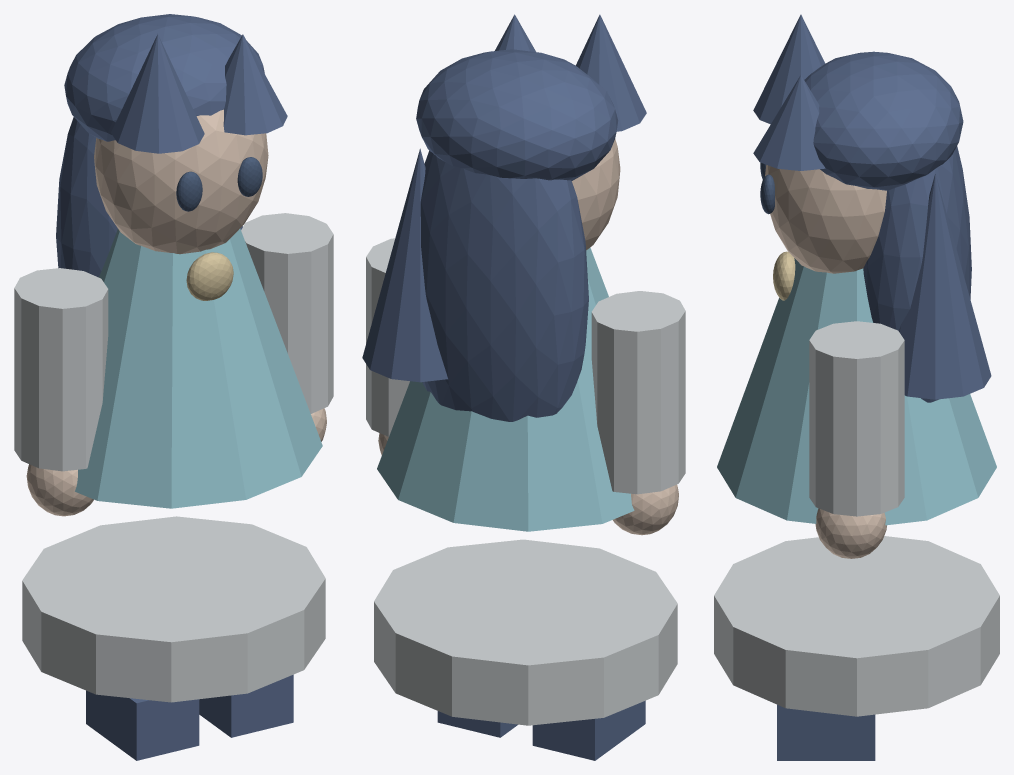
Rendered from saruul.glb.
3 renders of one model, left to right at view 1: azimuth 30°, elevation 25°; view 2: azimuth 150°, elevation 25°; view 3: azimuth 270°, elevation 25°, orthographic. The views are drawn at different scales.
Parts seen in each view (by area): view 1: underskirt, dress, sleeve0, face, hair_cap, sleeve1, hair_back, bang_left, shoe0, bang_right, shoe1, hand0 (+3 smaller); view 2: underskirt, hair_back, dress, hair_cap, sleeve0, hair_tail, shoe0, sleeve1, bang_left, face, hand0, shoe1 (+1 smaller); view 3: underskirt, dress, sleeve1, hair_cap, hair_tail, face, hair_back, shoe1, bang_right, bang_left, hand1, necklace (+1 smaller).
Part boxes in pixels (x1=…): underskirt: x1=22, y1=516, x2=325, y2=702; dress: x1=75, y1=228, x2=322, y2=508; sleeve0: x1=14, y1=268, x2=108, y2=471; face: x1=94, y1=109, x2=268, y2=254; hair_cap: x1=64, y1=14, x2=264, y2=141; sleeve1: x1=241, y1=213, x2=333, y2=413; hair_back: x1=56, y1=117, x2=117, y2=277; bang_left: x1=111, y1=34, x2=204, y2=153; shoe0: x1=86, y1=690, x2=199, y2=760; bang_right: x1=223, y1=34, x2=287, y2=135; shoe1: x1=199, y1=674, x2=293, y2=737; hand0: x1=26, y1=464, x2=93, y2=516; underskirt: x1=374, y1=539, x2=677, y2=725; hair_back: x1=420, y1=150, x2=588, y2=421; dress: x1=377, y1=247, x2=634, y2=531; hair_cap: x1=416, y1=49, x2=618, y2=180; sleeve0: x1=591, y1=291, x2=685, y2=494; hair_tail: x1=362, y1=148, x2=447, y2=382; shoe0: x1=532, y1=700, x2=645, y2=760; sleeve1: x1=366, y1=238, x2=409, y2=436; bang_left: x1=576, y1=14, x2=646, y2=131; face: x1=572, y1=139, x2=620, y2=250; hand0: x1=613, y1=484, x2=678, y2=535; shoe1: x1=437, y1=711, x2=517, y2=737; underskirt: x1=714, y1=536, x2=999, y2=716; dress: x1=717, y1=258, x2=996, y2=525; sleeve1: x1=809, y1=321, x2=904, y2=516; hair_cap: x1=804, y1=51, x2=963, y2=190; hair_tail: x1=899, y1=173, x2=991, y2=399; face: x1=765, y1=165, x2=886, y2=273; hair_back: x1=863, y1=146, x2=971, y2=402; shoe1: x1=777, y1=704, x2=875, y2=760; bang_right: x1=753, y1=75, x2=825, y2=170; bang_left: x1=753, y1=14, x2=825, y2=124; hand1: x1=815, y1=508, x2=886, y2=558; necklace: x1=773, y1=251, x2=795, y2=300.
Size of the model in its own units: 1.22 by 2.71 by 1.02.
